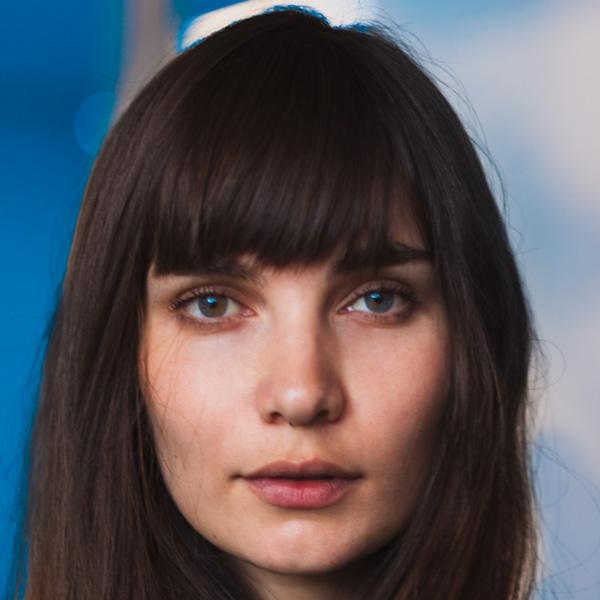Eyes: (162, 278, 264, 341), (329, 272, 424, 335)
